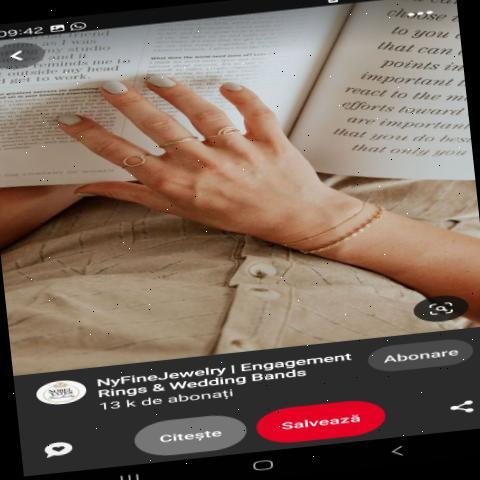Hands: (40, 36, 380, 281)
